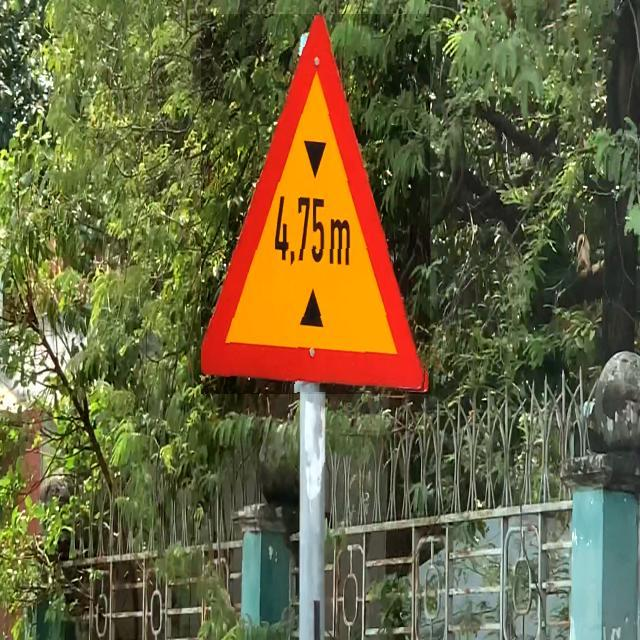S-509a: (201, 14, 430, 394)
